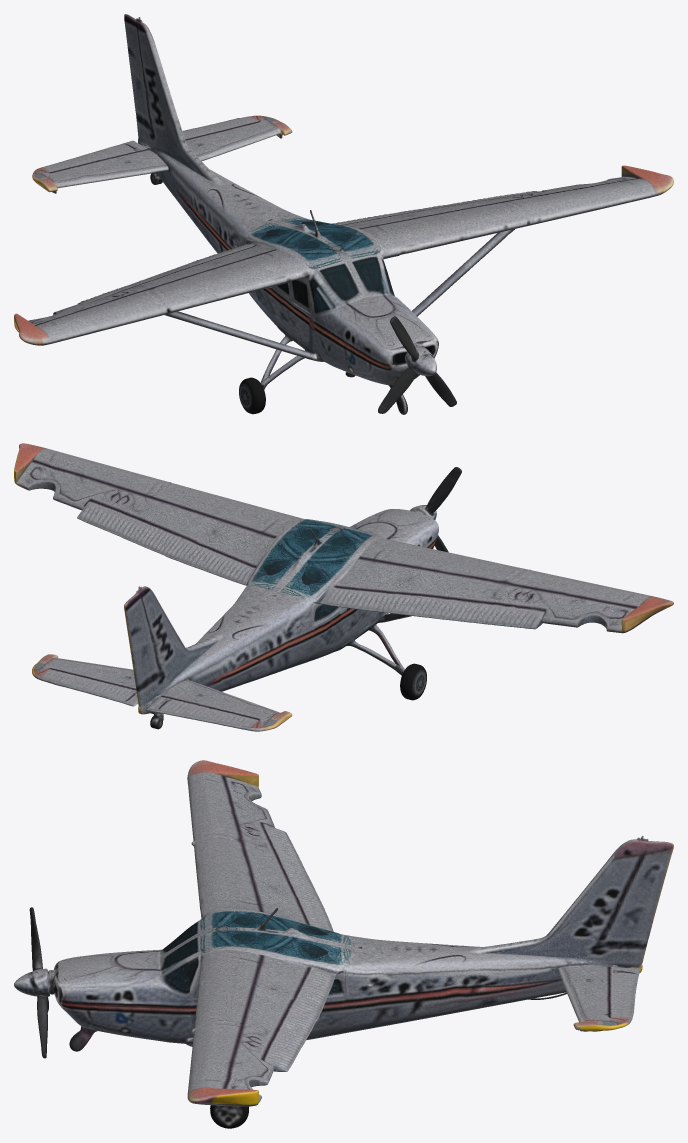
Rendered from skyhawk.glb.
3 renders of one model, top to bottom at view 1: azimuth 30°, elevation 25°; view 2: azimuth 150°, elevation 25°; view 3: azimuth 270°, elevation 25°, orthographic. The views are drawn at different scales.
Parts seen in each view (by area): view 1: skyhawk; view 2: skyhawk; view 3: skyhawk.
Boxes of the visible parts, left/top/right/bottom form: skyhawk: left=14, top=14, right=673, bottom=414; skyhawk: left=14, top=443, right=673, bottom=731; skyhawk: left=14, top=760, right=673, bottom=1128.
Size of the model in its own units: 10.1 by 3.46 by 8.3.
1 material, 1 textured.
